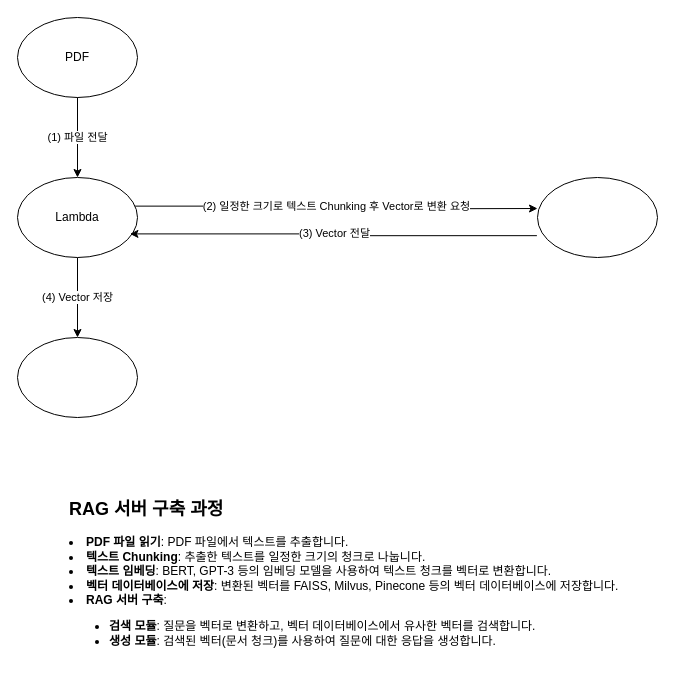
The diagram is 675 pixels wide and 688 high, and some of its shapes have lost their labels. The shapes that lost their labels are listed below. From the top down, each one's centre as x and y in pixels, then its label:
the point at 597,217: Embedding Model
the point at 77,377: VectorDB
